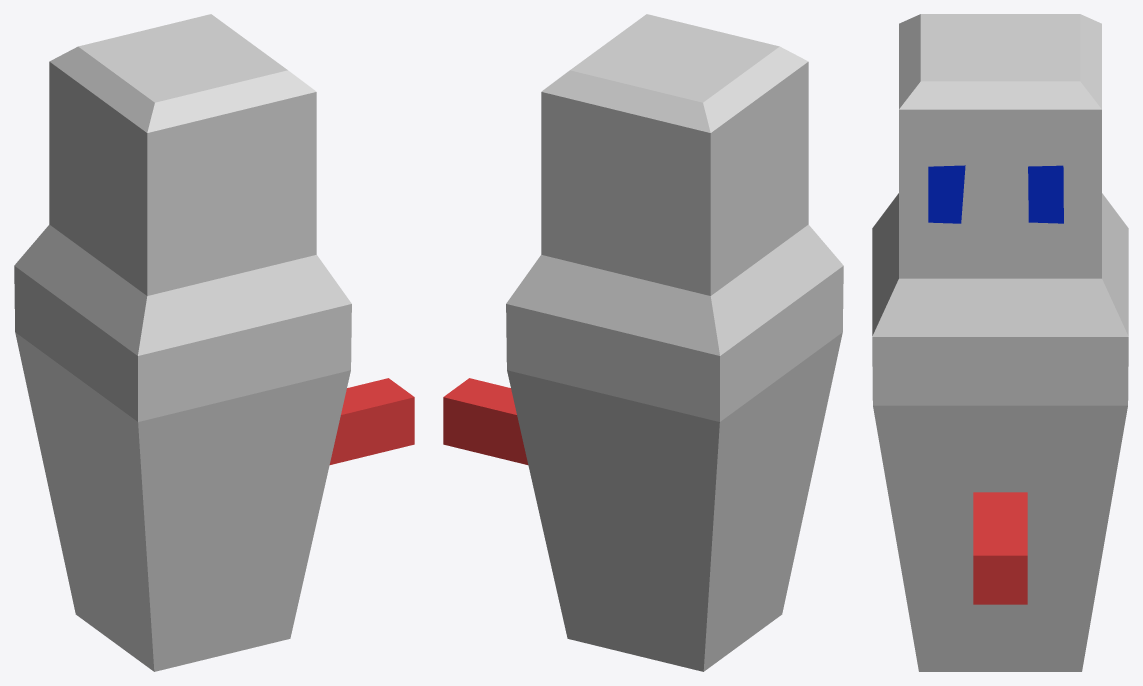
Rendered from player.glb.
The picture shows the model from 3 angles, left to right: view 1: azimuth 30°, elevation 25°; view 2: azimuth 150°, elevation 25°; view 3: azimuth 270°, elevation 25°; orthographic projection. The views are drawn at different scales.
Visible parts, largest first — view 1: Cube; view 2: Cube; view 3: Cube.
Boxes of the visible parts, left/top/right/bottom form: Cube: left=14, top=14, right=414, bottom=671; Cube: left=443, top=14, right=843, bottom=671; Cube: left=872, top=14, right=1128, bottom=671.
Bounding box in the file's own units: 1.99 × 3.32 × 1.31.
